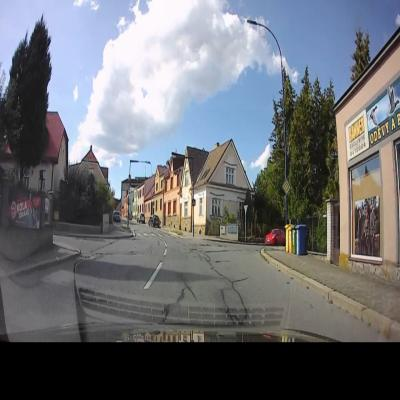clear-road: (76, 235, 384, 341)
